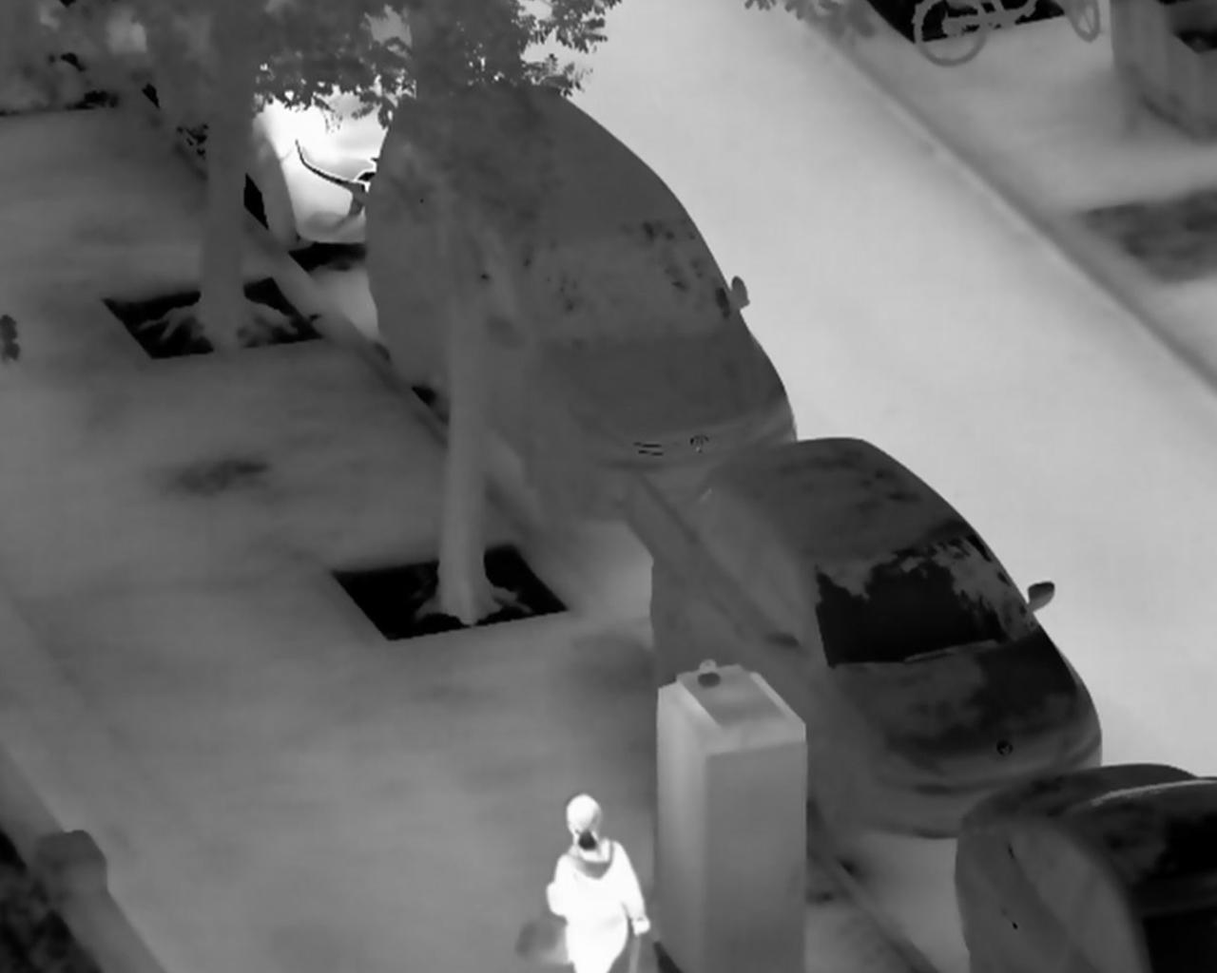person: (544, 795, 654, 973)
